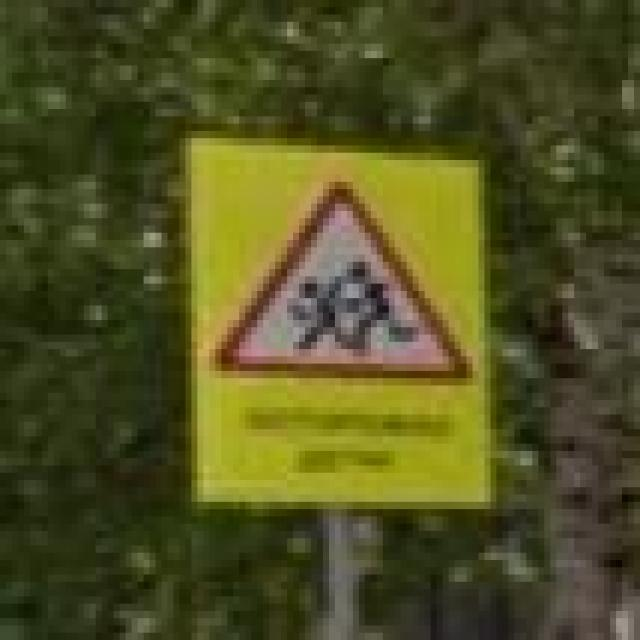Dzieci: (210, 182, 472, 385)
